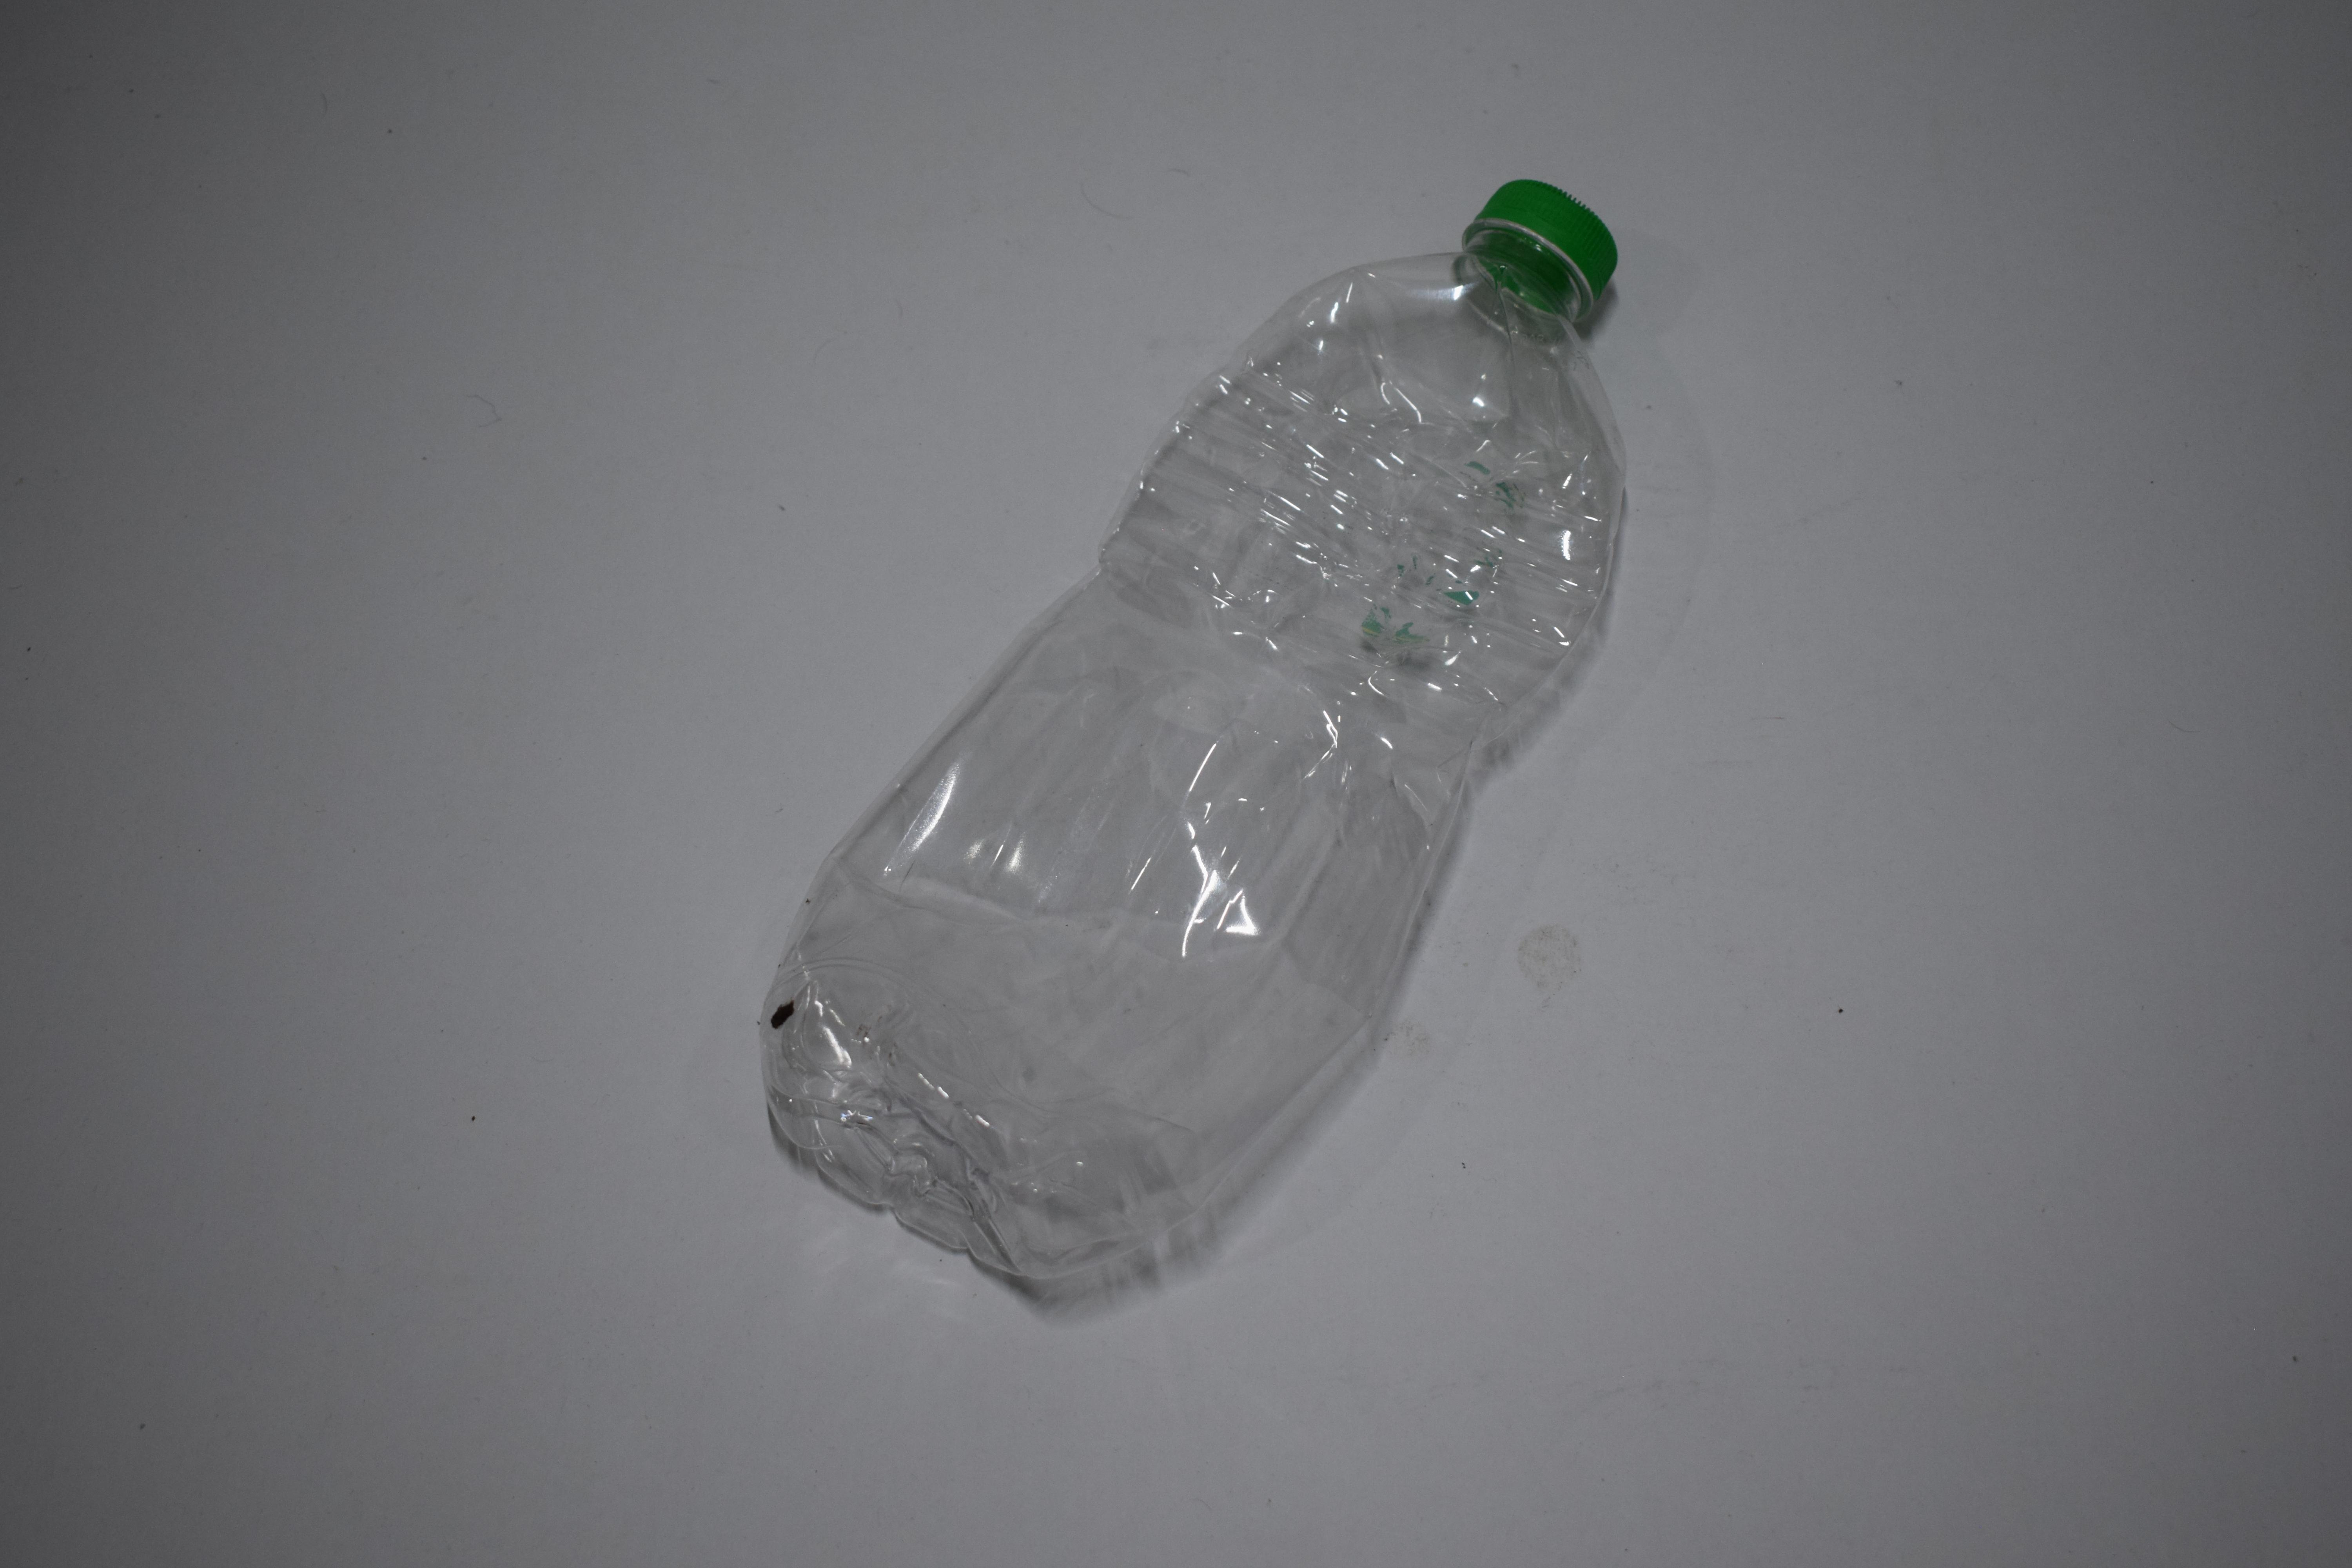bottle: (0, 168, 451, 1300)
